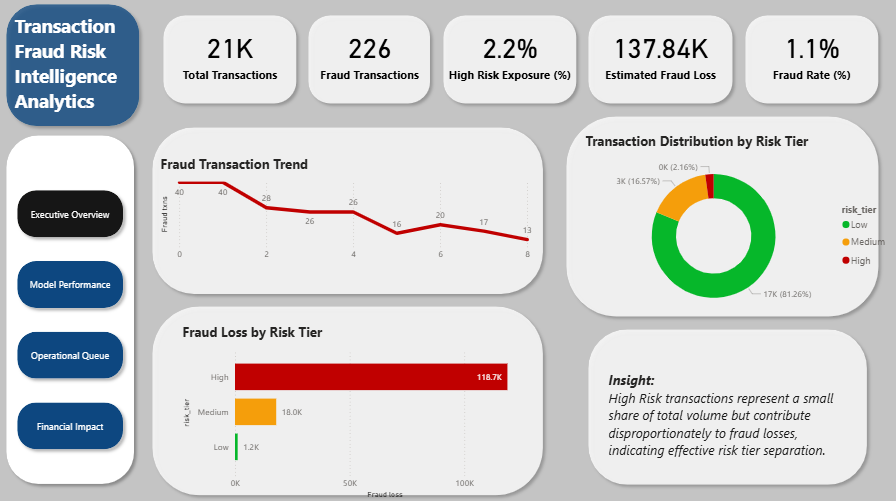

What the dashboard file says about the page in this screenshot:
{"tool":"powerbi","page":{"name":"Executive Overview","canvas":[1280,720],"ordinal":0},"visuals":[{"type":"shape","box":[832,464,416,240],"z":0},{"type":"textbox","box":[864,512,336,192],"z":1000},{"type":"shape","box":[432,16,192,144],"z":2000},{"type":"shape","box":[224,16,208,144],"z":3000},{"type":"shape","box":[624,16,208,144],"z":4000},{"type":"shape","box":[832,16,224,144],"z":5000},{"type":"shape","box":[1056,16,208,144],"z":6000},{"type":"shape","box":[800,160,464,304],"z":7000},{"type":"shape","box":[208,432,576,288],"z":8000},{"type":"shape","box":[208,176,576,256],"z":9000},{"type":"shape","box":[0,188,200.6,516],"z":9000,"group":"g1"},{"type":"card","fields":{"Values":["transaction_risk_score_final.Total txns"]},"box":[208,32,240,96],"z":10000},{"type":"card","fields":{"Values":["transaction_risk_score_final.Fraud txns"]},"box":[400,32,256,96],"z":11000},{"type":"card","fields":{"Values":["transaction_risk_score_final.High risk %"]},"box":[608,32,240,96],"z":12000},{"type":"card","fields":{"Values":["transaction_risk_score_final.Fraud loss"]},"box":[816,32,256,96],"z":13000},{"type":"card","fields":{"Values":["transaction_risk_score_final.Fraud Rate %"]},"box":[1040,32,240,96],"z":14000},{"type":"lineChart","title":"Fraud Transaction Trend","fields":{"Y":["transaction_risk_score_final.Fraud txns"],"Category":["transaction_risk_score_final.step"]},"box":[224,224,544,160],"z":15000},{"type":"donutChart","title":"Transaction Distribution by Risk Tier","fields":{"Category":["transaction_risk_score_final.risk_tier"],"Y":["transaction_risk_score_final.Total txns"]},"box":[832,192,448,272],"z":16000},{"type":"textbox","box":[15.4,16,200.6,172],"z":16002,"group":"g1"},{"type":"clusteredBarChart","title":"Fraud Loss by Risk Tier","fields":{"Category":["transaction_risk_score_final.risk_tier"],"Y":["transaction_risk_score_final.Fraud loss"]},"box":[256,464,528,256],"z":17000},{"type":"shape","box":[0,0,208,192],"z":19001},{"type":"pageNavigator","box":[15.4,266.2,169.7,390.9],"z":23502,"group":"g1"},{"type":"group","id":"g1","title":"Group 1","box":[0,16,192,688],"z":23503}]}

Visuals, with their boxes in screenshot pixels (x1, y1, x2, y2), scaled from the page's 1280x720 canvas onto the 896x501 screenshot:
shape: select_region(582, 323, 874, 490)
textbox: select_region(605, 356, 840, 490)
shape: select_region(302, 11, 437, 111)
shape: select_region(157, 11, 302, 111)
shape: select_region(437, 11, 582, 111)
shape: select_region(582, 11, 739, 111)
shape: select_region(739, 11, 885, 111)
shape: select_region(560, 111, 885, 323)
shape: select_region(146, 301, 549, 500)
shape: select_region(146, 122, 549, 301)
shape: select_region(0, 131, 140, 490)
card - transaction_risk_score_final.Total txns: select_region(146, 22, 314, 89)
card - transaction_risk_score_final.Fraud txns: select_region(280, 22, 459, 89)
card - transaction_risk_score_final.High risk %: select_region(426, 22, 594, 89)
card - transaction_risk_score_final.Fraud loss: select_region(571, 22, 750, 89)
card - transaction_risk_score_final.Fraud Rate %: select_region(728, 22, 895, 89)
"Fraud Transaction Trend" lineChart: select_region(157, 156, 538, 267)
"Transaction Distribution by Risk Tier" donutChart: select_region(582, 134, 895, 323)
textbox: select_region(11, 11, 151, 131)
"Fraud Loss by Risk Tier" clusteredBarChart: select_region(179, 323, 549, 500)
shape: select_region(0, 0, 146, 134)
pageNavigator: select_region(11, 185, 130, 457)
"Group 1" group: select_region(0, 11, 134, 490)
